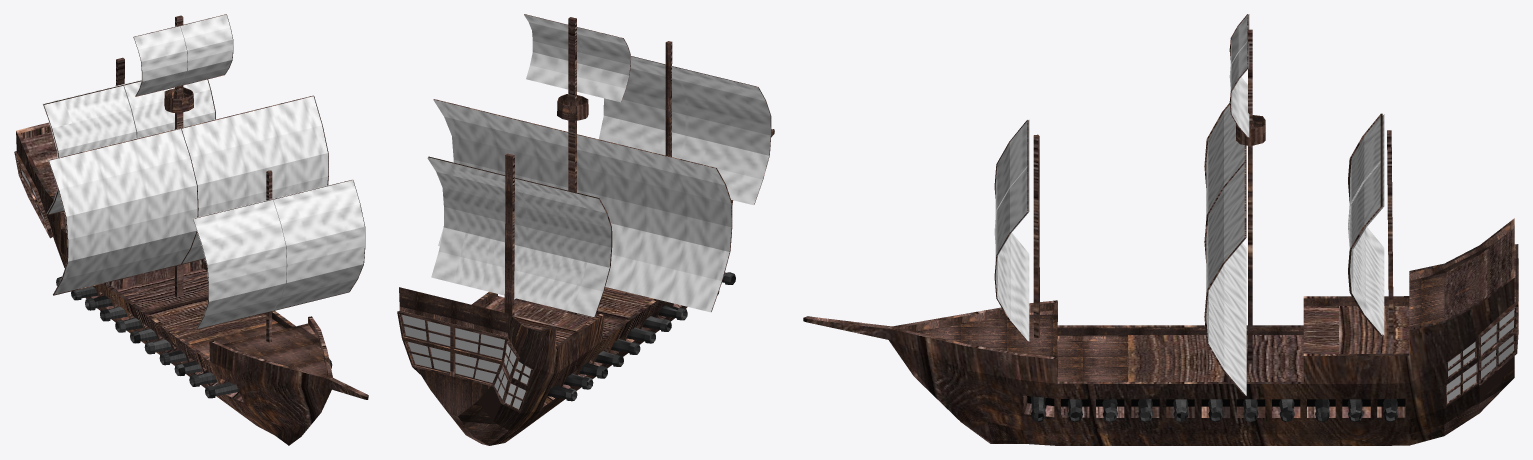
Rendered from pirate_ship8.fbx.
The picture shows the model from 3 angles, left to right: view 1: azimuth 30°, elevation 25°; view 2: azimuth 150°, elevation 25°; view 3: azimuth 270°, elevation 25°; orthographic projection. The views are drawn at different scales.
Parts seen in each view (by area): view 1: PirateShip; view 2: PirateShip; view 3: PirateShip.
Boxes of the visible parts, bbox=[...] form: PirateShip: bbox=[14, 14, 368, 445]; PirateShip: bbox=[397, 14, 774, 445]; PirateShip: bbox=[803, 14, 1518, 445].
Bounding box in the file's own units: 515 × 647 × 1017.
